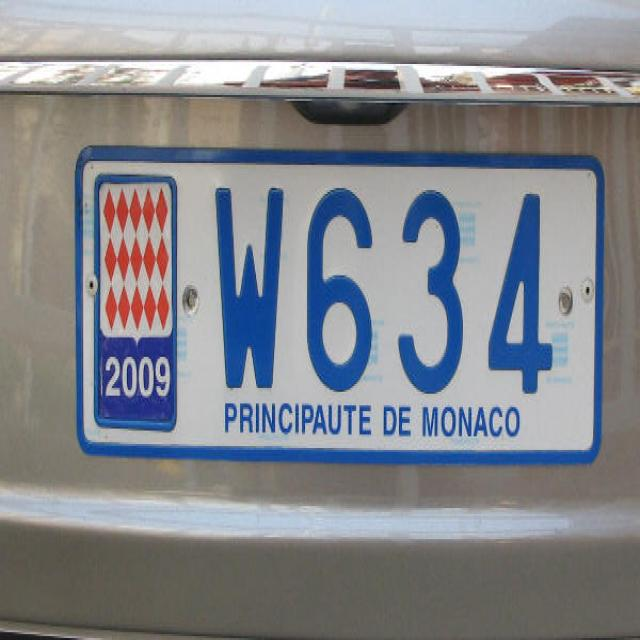3: (392, 171, 474, 401)
4: (485, 178, 559, 396)
6: (299, 166, 382, 396)
W: (209, 165, 292, 399)
